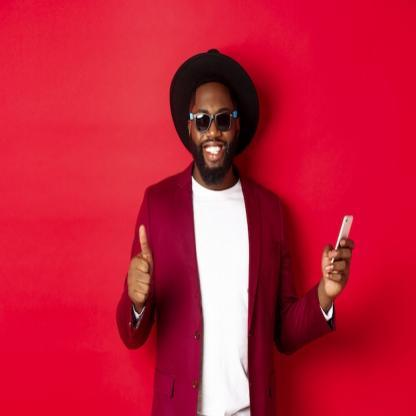thumb_up: (124, 222, 158, 305)
